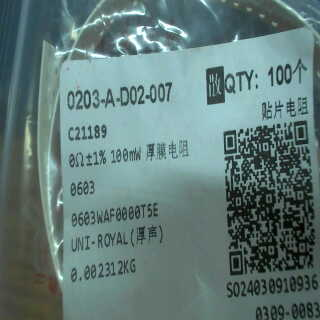0R: (65, 141, 145, 202)
